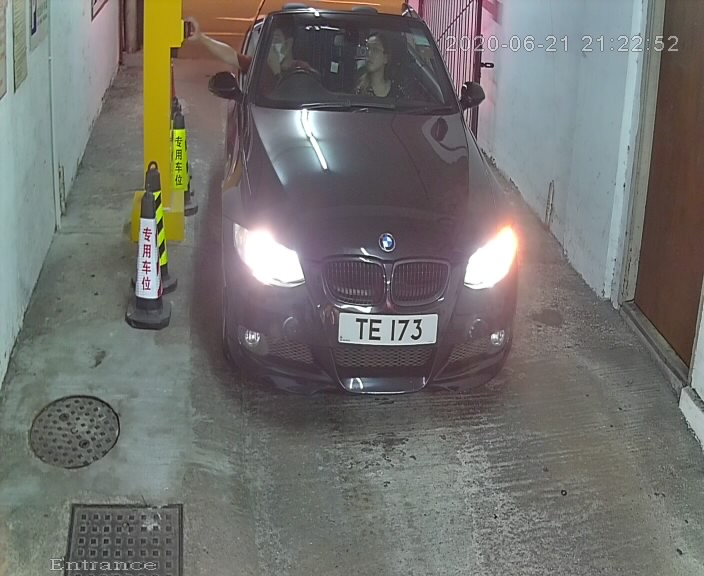privatecar: (198, 1, 537, 417)
